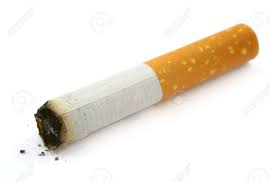cigarette: (30, 21, 262, 157)
